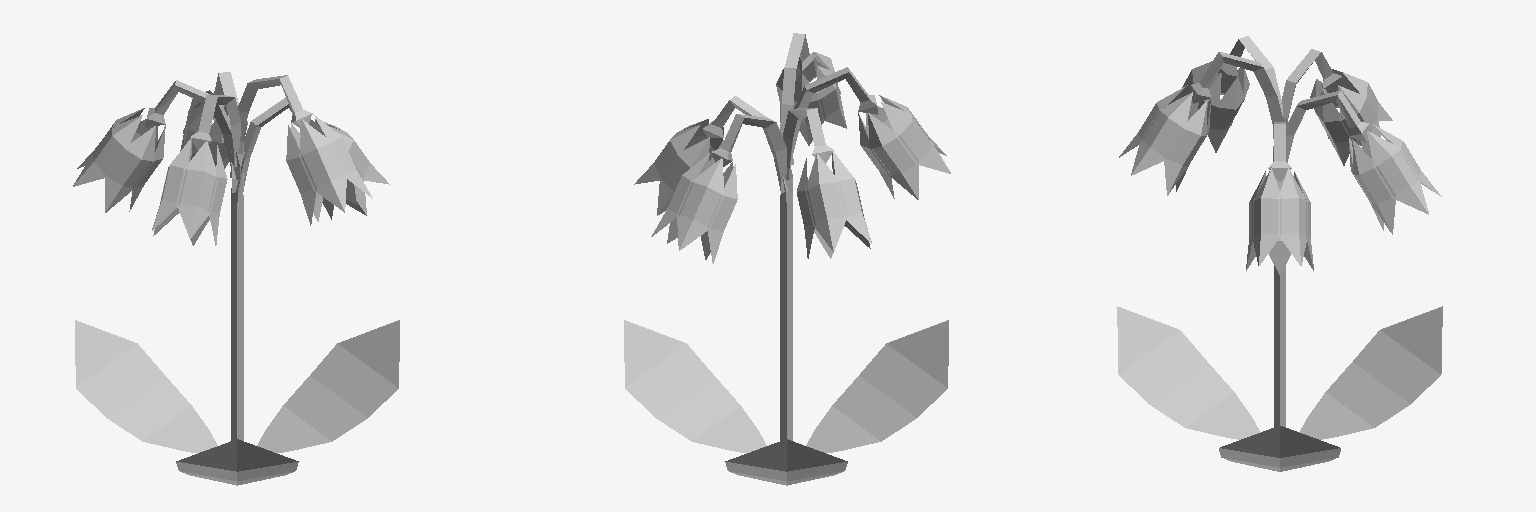
The model's file is bluebells_0001.obj.
The picture shows the model from 3 angles: view 1: azimuth 30°, elevation 25°; view 2: azimuth 150°, elevation 25°; view 3: azimuth 270°, elevation 25°; orthographic projection.
Parts seen in each view (by area): view 1: bluebells_0001; view 2: bluebells_0001; view 3: bluebells_0001.
Boxes of the visible parts, box(x1,y1,x2,y2) form: bluebells_0001: box(73, 72, 399, 485); bluebells_0001: box(624, 33, 950, 485); bluebells_0001: box(1117, 36, 1442, 471).
Bounding box in the file's own units: 2.34 × 3.12 × 2.29.